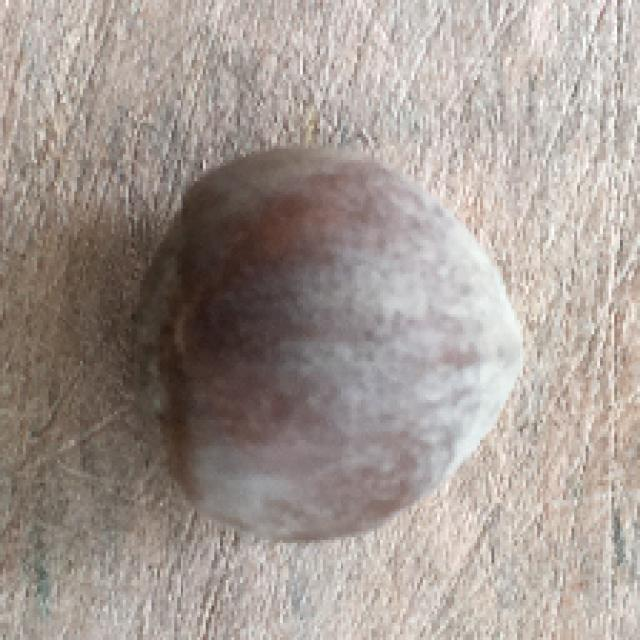damagedHazelnut: (130, 150, 526, 543)
